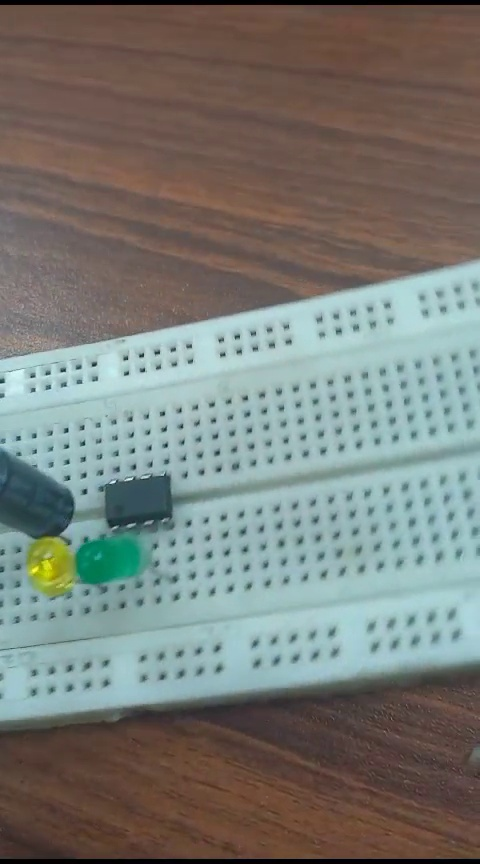IC: (102, 471, 187, 524)
LED: (28, 536, 80, 604), (74, 532, 143, 579)
capacitor: (3, 431, 86, 532)
